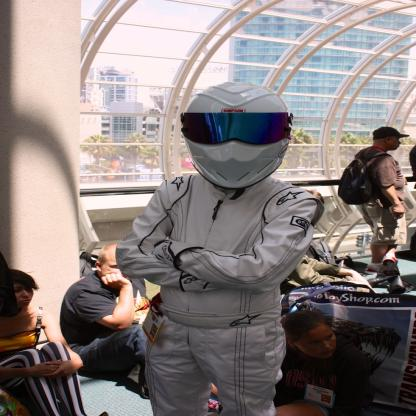Helmet: (176, 71, 296, 180)
